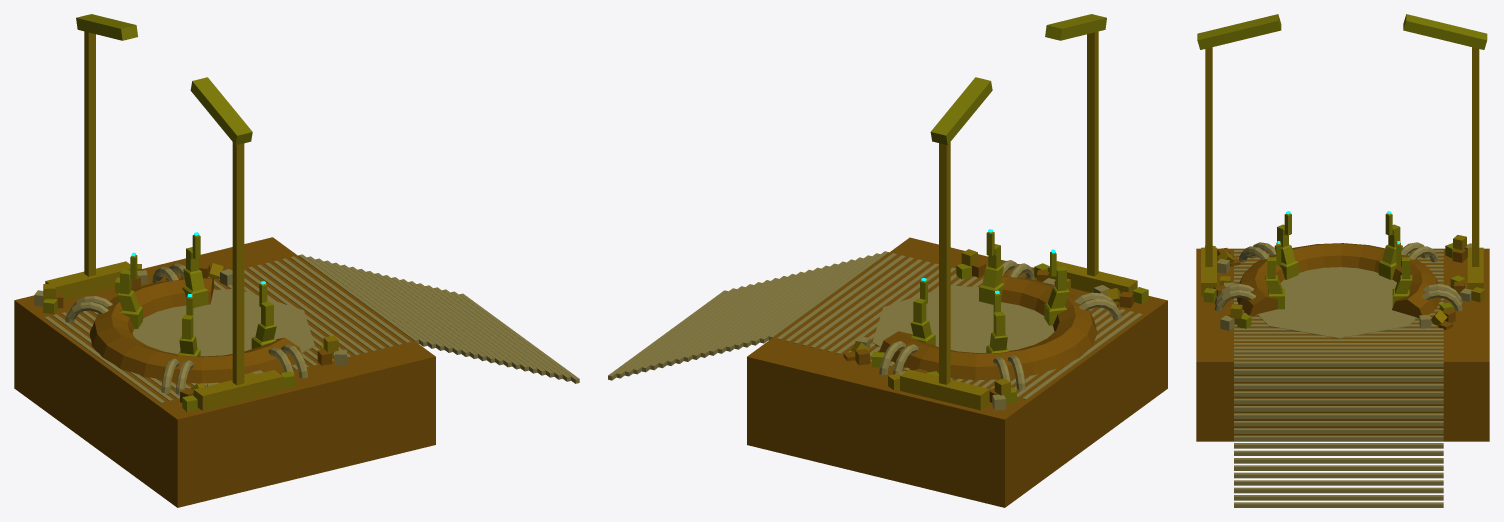
File: plspw.fbx
3 views of the same model, side by side, from view 1: azimuth 30°, elevation 25°; view 2: azimuth 150°, elevation 25°; view 3: azimuth 270°, elevation 25° (orthographic). The views are drawn at different scales.
Visible parts, largest first — view 1: spawnpt; view 2: spawnpt; view 3: spawnpt.
Boxes of the visible parts, <box> form: spawnpt: <box>14,14,579,507</box>; spawnpt: <box>608,14,1167,507</box>; spawnpt: <box>1196,14,1489,507</box>.
Size of the model in its own units: 1048 by 897 by 700.
